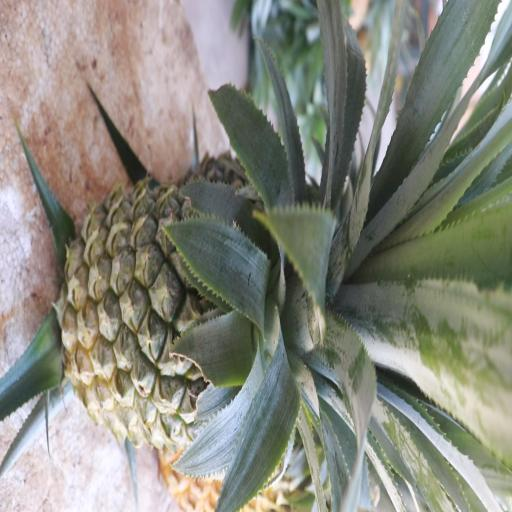------------------------------: (64, 189, 304, 442)
